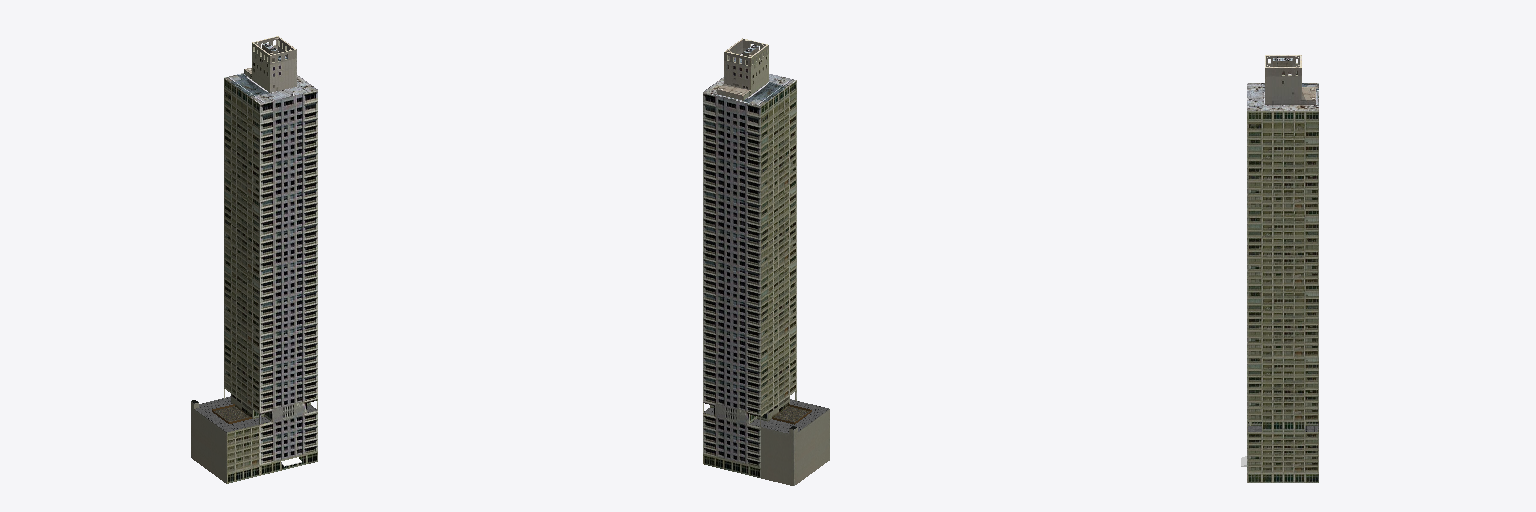
3 renders of one model, left to right at view 1: azimuth 30°, elevation 25°; view 2: azimuth 150°, elevation 25°; view 3: azimuth 270°, elevation 25°, orthographic.
Parts seen in each view (by area): view 1: Mesh1 G_1000_Lake_Shore_Plaza1 Model; view 2: Mesh1 G_1000_Lake_Shore_Plaza1 Model; view 3: Mesh1 G_1000_Lake_Shore_Plaza1 Model.
Boxes of the visible parts, box(x1,y1,x2,y2) form: Mesh1 G_1000_Lake_Shore_Plaza1 Model: box(191, 36, 317, 483); Mesh1 G_1000_Lake_Shore_Plaza1 Model: box(703, 38, 829, 485); Mesh1 G_1000_Lake_Shore_Plaza1 Model: box(1247, 55, 1318, 482).
Bounding box in the file's own units: 1657 × 7095 × 1237.
Materials: 31 (27 with a texture image).